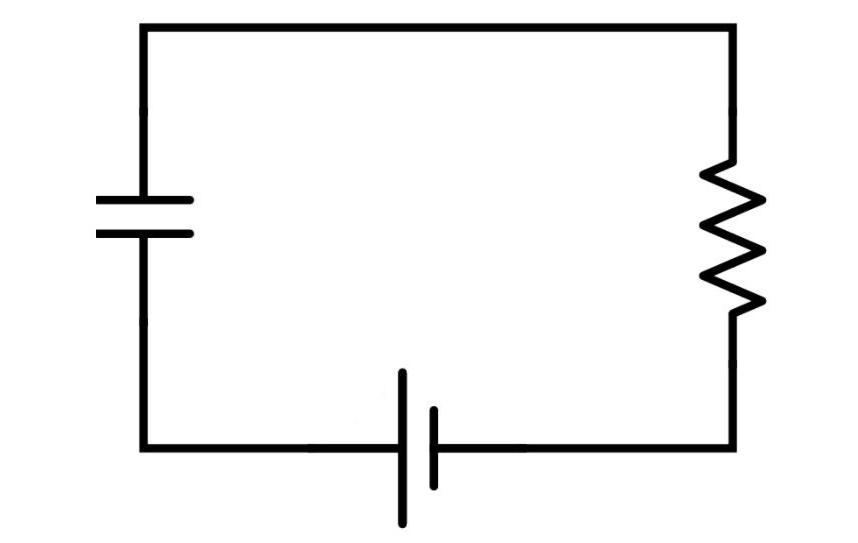resistor: (675, 130, 790, 348)
